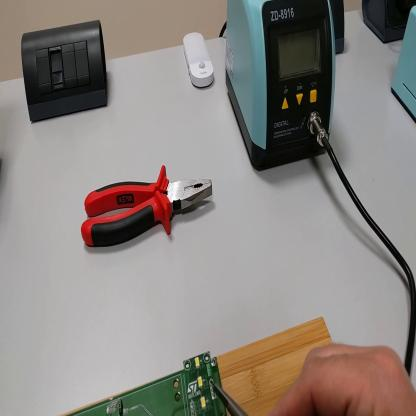hand: (271, 343, 416, 416)
low voltage board: (70, 351, 229, 416)
oscilloscope probe tip: (211, 380, 248, 416)
pliers: (80, 168, 216, 253)
socket: (362, 2, 416, 47), (330, 1, 346, 54)
welder base: (392, 5, 416, 122)
welder station: (228, 2, 338, 176)
working area: (61, 316, 338, 416)
